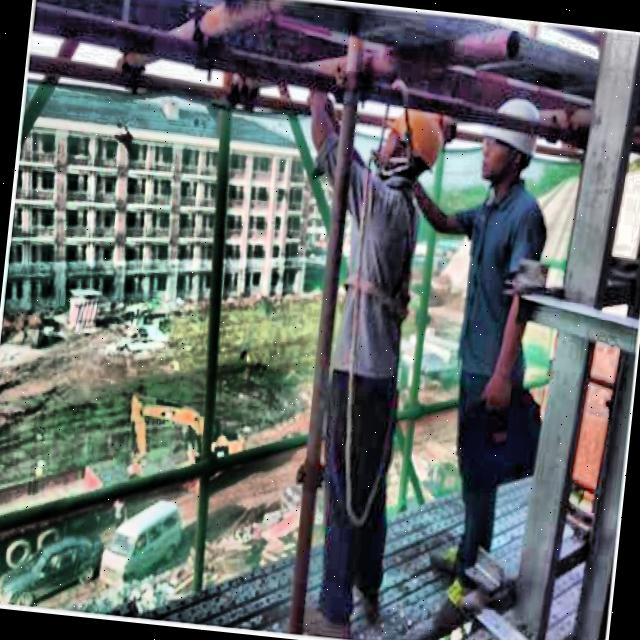helmet: (470, 89, 550, 184), (371, 105, 452, 188)
